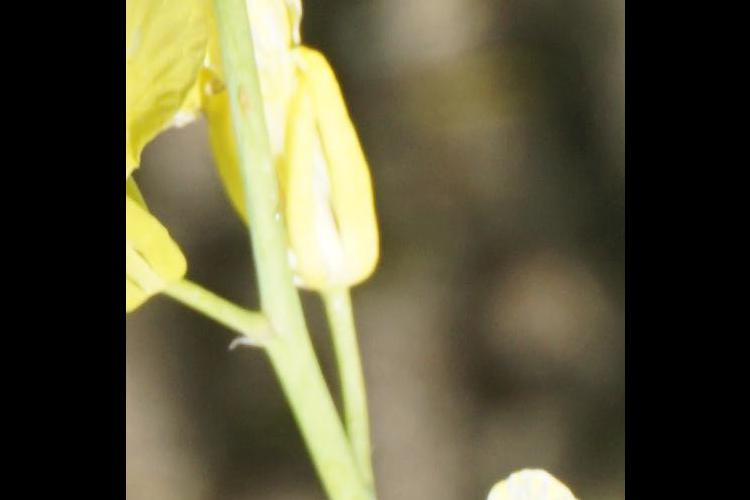bud: (260, 45, 389, 292)
yellow: (127, 1, 244, 353)
